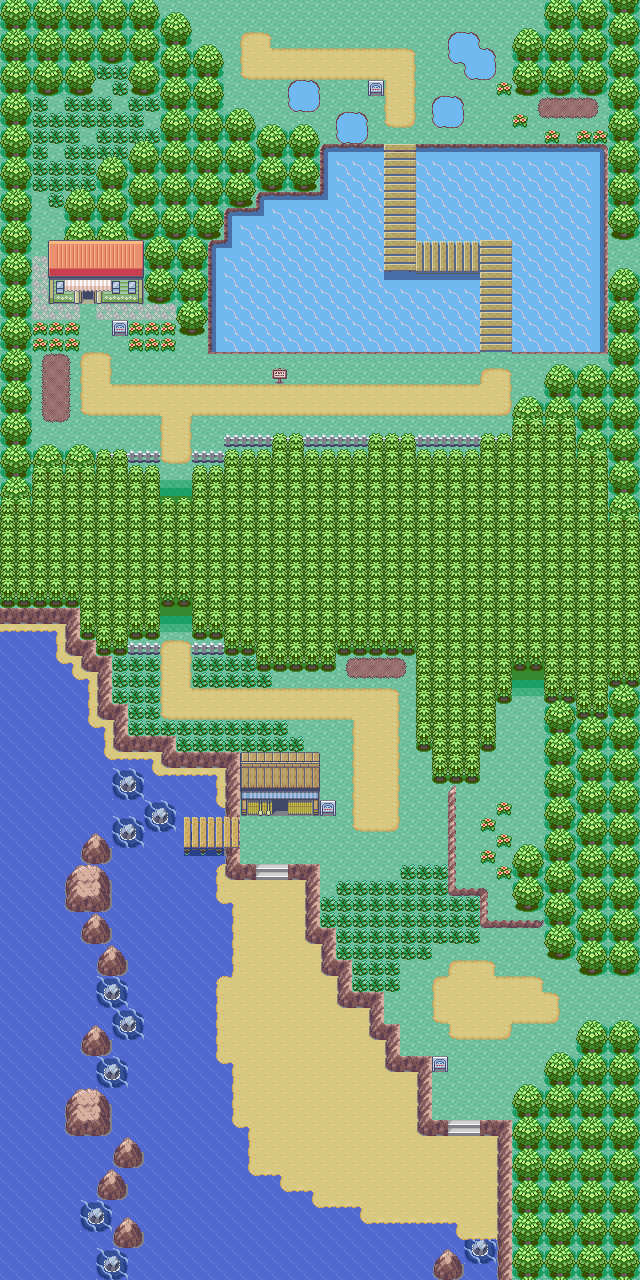misc: (46, 236, 147, 308), (238, 751, 323, 819), (500, 649, 559, 706), (153, 592, 199, 641)
